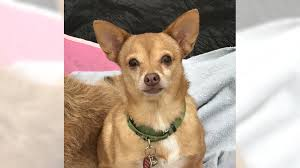Chihuahua: (78, 4, 215, 168)
